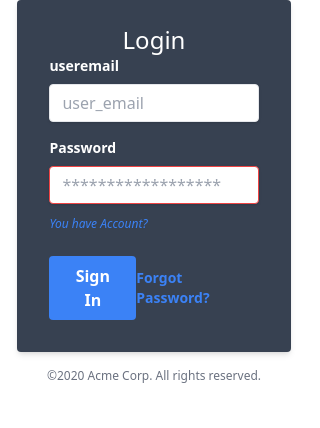
Scenario: Test LoginForm › Login Page Tests When user unAuthenticate › test Login page When form submitted rejected and error show on document
The width and height of the screenshot is (320, 428).
Type "JohnDoe@gmail.com" into the field with test id "inputAuth" showing "user_email" at (154, 103), box top-left (49, 84), bottom-right (259, 122)
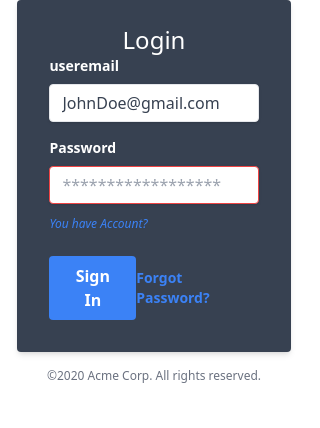
Type "John123456" into the password field with test id "inputAuth" at (154, 185), box top-left (49, 166), bottom-right (259, 204)
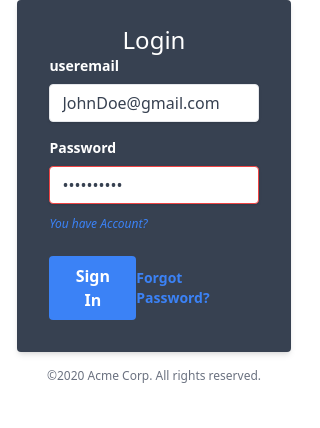
Click the button with aria-label "submit" at (93, 288), box top-left (49, 256), bottom-right (136, 320)
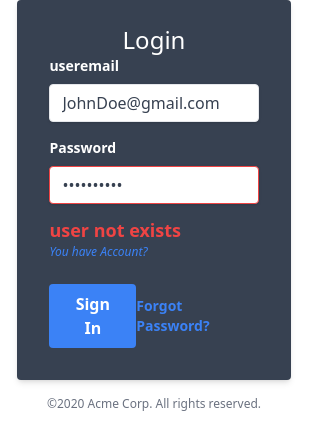
Expected: the text with id "error_result" reads "user not exists", top-left (49, 218), bottom-right (181, 242)
